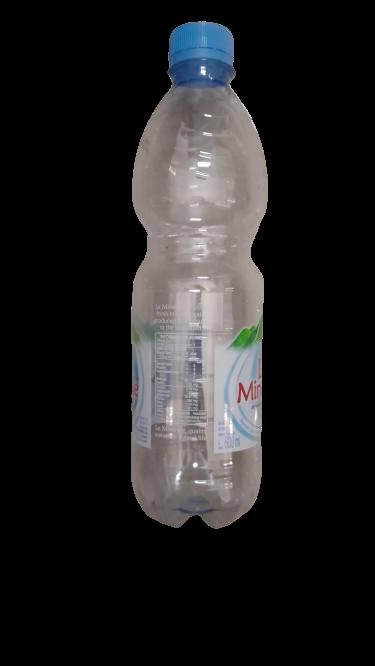Plastik: (117, 5, 274, 541)
